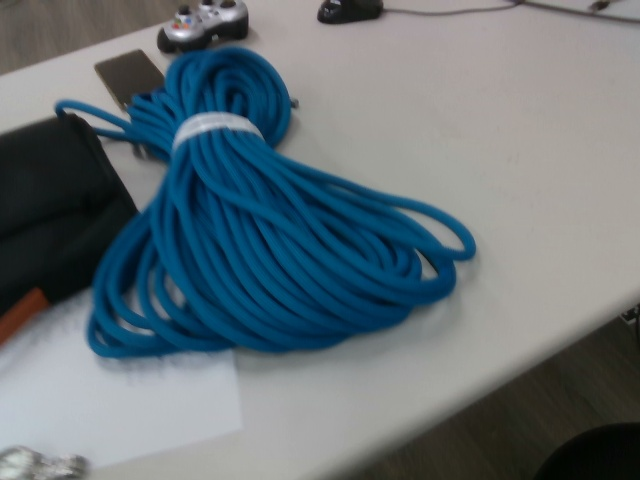rope: (50, 43, 483, 361)
